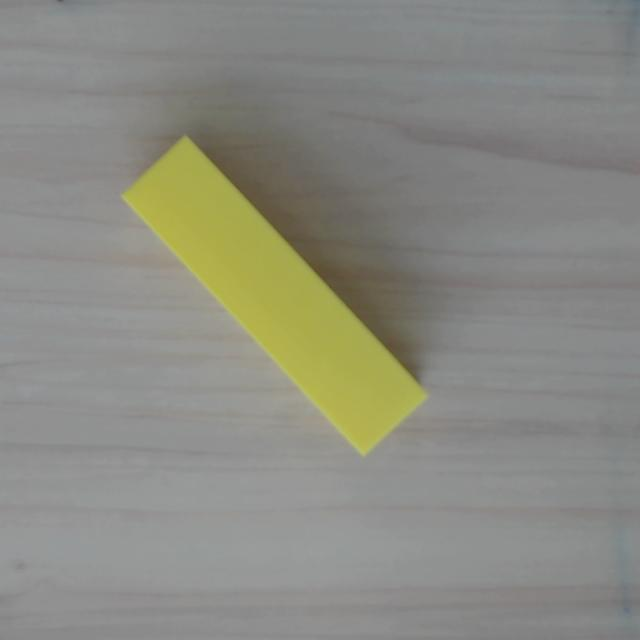Balok-Kuning-1002525: (119, 134, 430, 457)
